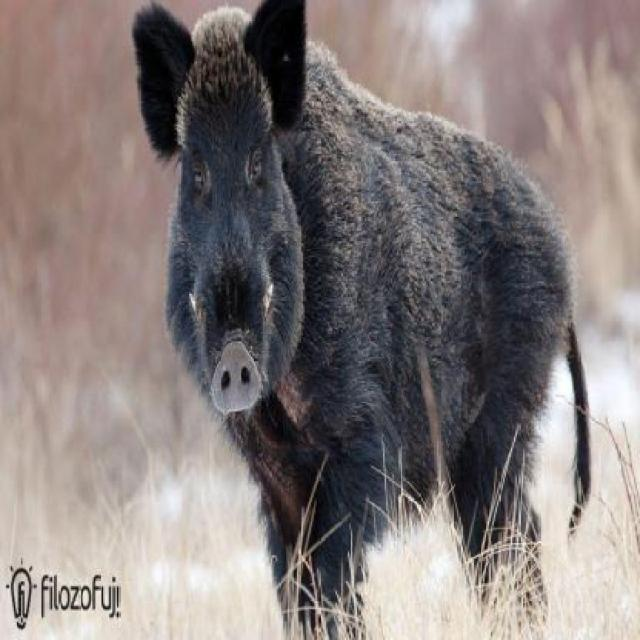wildboar: (133, 0, 592, 640)
